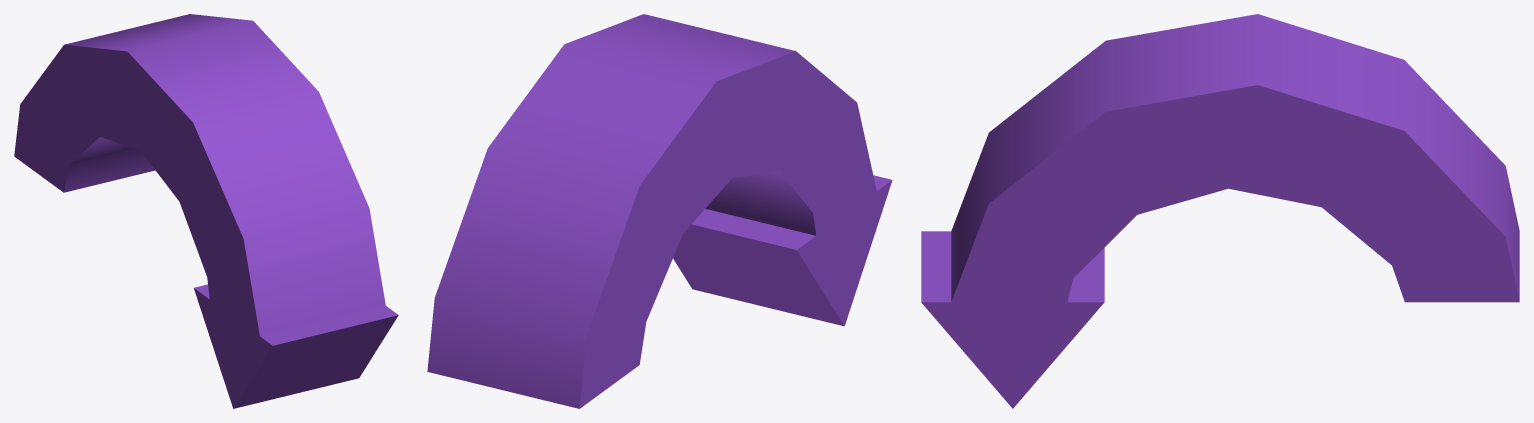
Rendered from original-18.obj.
3 renders of one model, left to right at view 1: azimuth 30°, elevation 25°; view 2: azimuth 150°, elevation 25°; view 3: azimuth 270°, elevation 25°, orthographic. The views are drawn at different scales.
Parts seen in each view (by area): view 1: mesh29/mesh29-geometry#mesh29-geometry; view 2: mesh29/mesh29-geometry#mesh29-geometry; view 3: mesh29/mesh29-geometry#mesh29-geometry.
Boxes of the visible parts, <box> form: mesh29/mesh29-geometry#mesh29-geometry: <box>14,14,398,408</box>; mesh29/mesh29-geometry#mesh29-geometry: <box>427,14,892,408</box>; mesh29/mesh29-geometry#mesh29-geometry: <box>921,14,1519,408</box>.
Bounding box in the file's own units: 0.0427 × 0.0907 × 0.1519.
